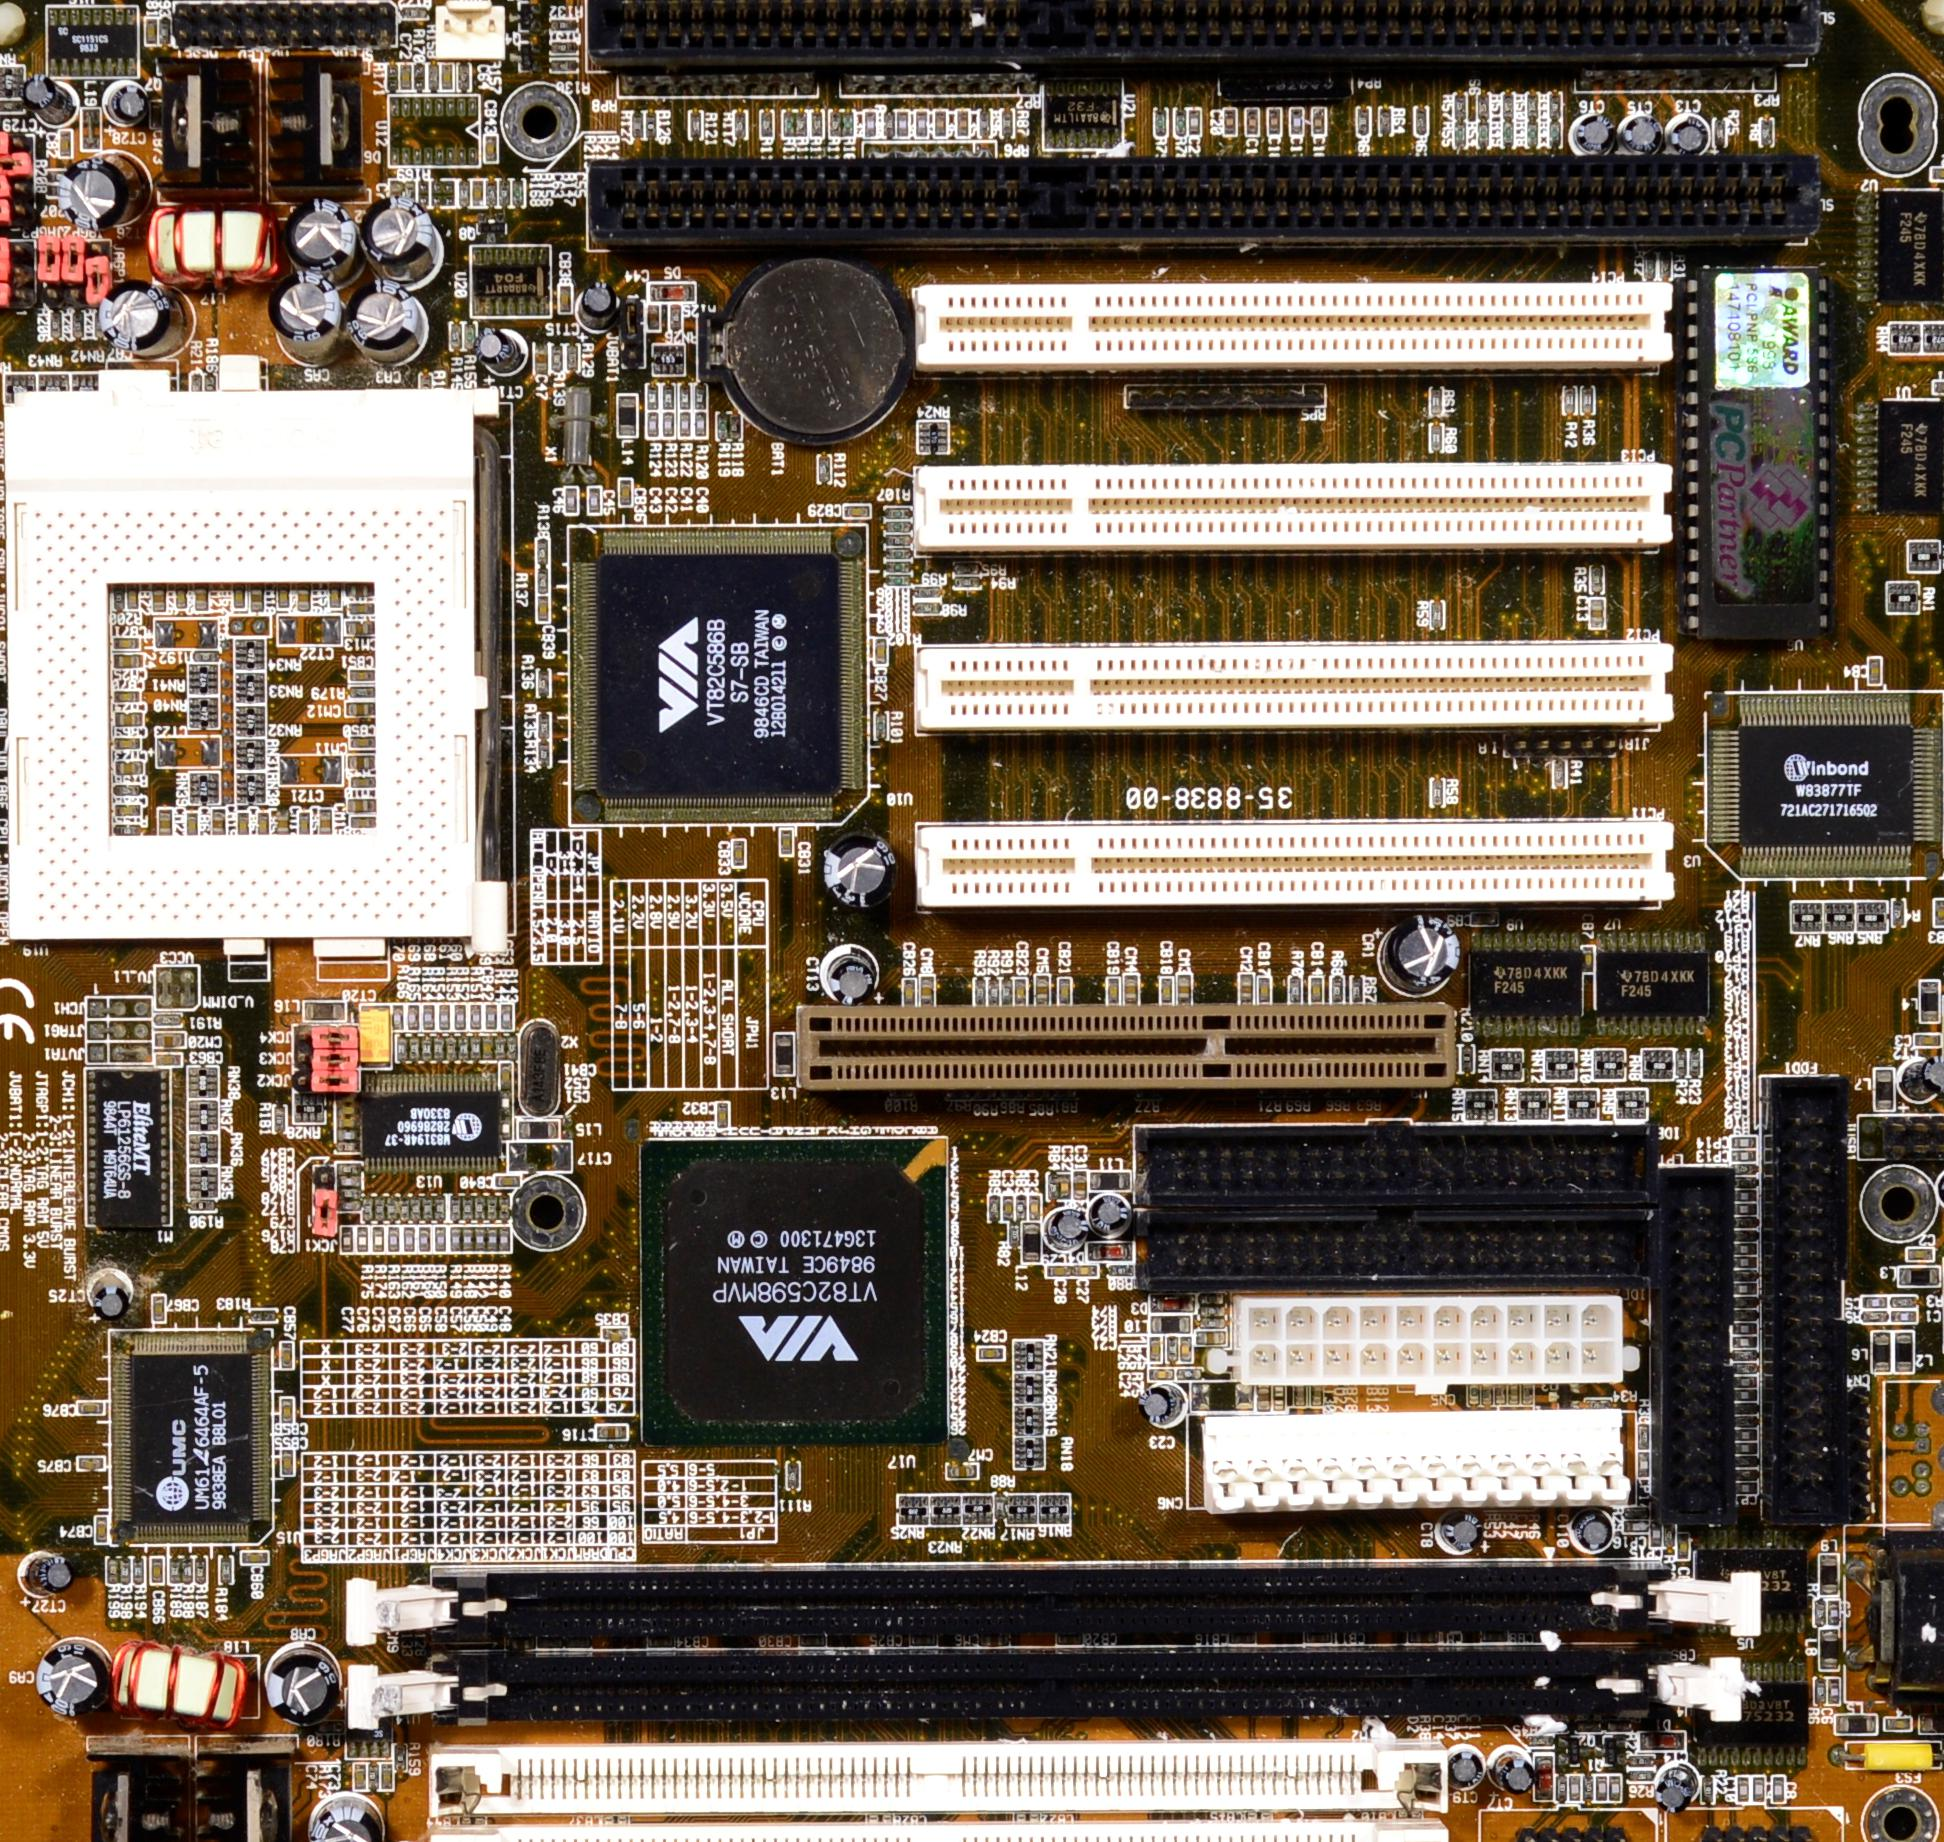Capacitor Jumper: (99, 268, 182, 348), (66, 151, 147, 227), (348, 274, 424, 353), (268, 1646, 343, 1728), (272, 267, 338, 353), (370, 196, 436, 272), (36, 1641, 102, 1714), (286, 203, 348, 270), (312, 1790, 388, 1840), (100, 73, 152, 133), (23, 1551, 73, 1601), (24, 80, 73, 132), (1175, 969, 1193, 1006), (1123, 975, 1141, 1011), (1257, 976, 1276, 1009), (595, 1425, 628, 1442), (947, 1463, 980, 1480), (921, 975, 937, 1011), (1904, 1245, 1935, 1262), (531, 341, 547, 376), (1238, 973, 1253, 1006), (151, 1293, 168, 1323), (1035, 975, 1051, 1006), (1222, 106, 1238, 137), (1589, 599, 1605, 630), (732, 836, 748, 867), (1290, 109, 1309, 133), (438, 64, 454, 93), (76, 1458, 106, 1473), (1267, 107, 1283, 137), (377, 1762, 393, 1792), (841, 504, 871, 519), (114, 712, 144, 727), (114, 760, 144, 776), (493, 1174, 526, 1188), (1826, 1598, 1840, 1631), (872, 634, 886, 667), (1310, 971, 1324, 1002), (1106, 976, 1120, 1008), (156, 1034, 187, 1047), (976, 1345, 1004, 1361), (151, 582, 164, 613), (781, 826, 795, 857), (400, 64, 414, 93), (280, 1342, 294, 1371), (1248, 107, 1262, 137), (93, 1515, 107, 1544), (59, 130, 73, 159), (145, 16, 159, 45), (344, 622, 374, 635), (114, 654, 144, 668), (76, 1401, 104, 1414), (280, 1399, 294, 1427), (241, 1551, 268, 1565), (353, 1762, 367, 1790), (1868, 656, 1882, 684), (1162, 976, 1174, 1008), (1890, 1312, 1921, 1324), (1196, 1333, 1227, 1345), (1148, 1369, 1179, 1381), (151, 1555, 163, 1586), (620, 478, 632, 509), (348, 602, 374, 616), (1002, 1193, 1014, 1222), (1028, 1195, 1040, 1224), (1149, 1336, 1162, 1366), (1773, 1774, 1785, 1804), (561, 284, 573, 313), (114, 803, 144, 815), (237, 810, 249, 840), (1915, 1035, 1942, 1047), (1073, 1172, 1085, 1200), (1047, 1264, 1072, 1278), (1859, 1295, 1887, 1307), (1736, 1776, 1748, 1804), (344, 705, 372, 717), (213, 808, 225, 836), (159, 810, 171, 838), (1059, 976, 1070, 1008), (158, 1054, 183, 1066), (1314, 111, 1326, 137), (485, 135, 497, 161), (348, 757, 374, 769), (346, 800, 372, 812), (298, 810, 310, 836), (1016, 976, 1027, 1006), (111, 639, 140, 649), (1073, 1266, 1098, 1278), (329, 585, 341, 609), (298, 587, 310, 611), (251, 587, 263, 611), (1059, 1174, 1070, 1201), (1182, 1336, 1193, 1364), (275, 589, 289, 609), (113, 691, 140, 701), (113, 737, 140, 748), (320, 808, 331, 836), (391, 180, 400, 213), (601, 1328, 627, 1338), (1191, 109, 1200, 140), (128, 585, 138, 611), (277, 810, 287, 836), (904, 978, 912, 1008), (350, 737, 374, 748), (592, 490, 602, 512), (177, 585, 185, 611), (234, 585, 242, 611), (350, 819, 376, 828), (260, 810, 268, 836), (197, 585, 206, 609), (350, 672, 374, 680), (189, 814, 197, 838), (351, 779, 374, 788), (1935, 902, 1942, 928), (1932, 381, 1942, 396)
Connector: (433, 1645, 1679, 1724), (589, 159, 1812, 239), (436, 1568, 1667, 1645), (582, 0, 1814, 62), (433, 1742, 1451, 1814), (905, 279, 1669, 369), (916, 466, 1669, 549), (909, 826, 1672, 898), (916, 654, 1664, 725), (1189, 1406, 1634, 1511), (1146, 1208, 1653, 1298), (1755, 1075, 1854, 1529), (801, 1011, 1456, 1079), (1136, 1125, 1660, 1205), (1655, 1165, 1747, 1522), (1229, 1305, 1624, 1381), (428, 1821, 1447, 1840), (1851, 1541, 1942, 1705), (175, 0, 400, 47)
IC: (639, 1132, 957, 1439), (570, 523, 866, 826), (1674, 268, 1830, 641), (1702, 687, 1942, 885), (109, 1328, 265, 1541), (85, 1072, 178, 1241), (360, 1073, 497, 1170), (1470, 930, 1584, 1039), (1691, 1657, 1806, 1762), (1598, 933, 1707, 1037), (1695, 1530, 1804, 1634), (1852, 400, 1942, 514), (1856, 189, 1942, 303), (45, 5, 137, 78), (471, 244, 554, 320), (1042, 80, 1125, 151), (1812, 1676, 1826, 1707)
Resistor Jumper: (1579, 383, 1598, 421), (950, 559, 987, 576), (1329, 971, 1345, 1009), (819, 455, 834, 490), (911, 585, 949, 599), (660, 383, 677, 412), (1288, 975, 1304, 1006), (272, 1105, 287, 1136), (1163, 1335, 1179, 1366), (1430, 384, 1445, 415), (988, 975, 1002, 1009), (1002, 978, 1016, 1013), (466, 1006, 483, 1034), (758, 111, 776, 138), (402, 182, 415, 216), (566, 341, 580, 376), (911, 602, 945, 616), (550, 341, 563, 379), (417, 1226, 433, 1255), (810, 111, 826, 140), (436, 178, 452, 208), (1430, 597, 1445, 627), (550, 40, 580, 55), (1104, 1262, 1137, 1276), (1174, 107, 1188, 140), (781, 107, 795, 140), (1555, 1773, 1568, 1806), (512, 177, 526, 209), (204, 372, 218, 405), (499, 1004, 516, 1030), (152, 1013, 189, 1025), (549, 59, 580, 73), (483, 1004, 499, 1032), (414, 62, 428, 93), (1002, 111, 1018, 138), (192, 1560, 208, 1588), (1812, 1598, 1826, 1629), (727, 415, 743, 443), (1432, 424, 1447, 452), (1553, 760, 1567, 791), (691, 111, 703, 145), (459, 64, 473, 93), (1355, 107, 1369, 137), (220, 1556, 234, 1586), (1828, 1679, 1842, 1709), (1627, 1755, 1657, 1769), (1608, 1774, 1622, 1804), (189, 370, 203, 400), (694, 383, 708, 412), (883, 556, 912, 570), (113, 822, 142, 836), (691, 412, 706, 438), (647, 415, 663, 441), (661, 415, 677, 441), (1380, 106, 1392, 138), (736, 109, 748, 142), (1563, 384, 1575, 417), (883, 521, 916, 533), (159, 14, 171, 47), (355, 1226, 369, 1253), (1452, 90, 1466, 118), (827, 111, 841, 138), (895, 111, 909, 138), (931, 111, 945, 138), (914, 113, 928, 140), (106, 1558, 119, 1586), (1761, 116, 1774, 144), (1594, 1774, 1608, 1802), (400, 5, 428, 19), (883, 506, 911, 519), (550, 17, 578, 31), (885, 571, 912, 585), (1589, 566, 1603, 594), (452, 1006, 467, 1030), (1047, 1172, 1059, 1203), (1551, 93, 1563, 125), (1155, 109, 1167, 140), (634, 109, 646, 140), (73, 308, 85, 339), (646, 384, 661, 409), (717, 412, 729, 443), (883, 537, 914, 549), (874, 712, 886, 743), (436, 1006, 450, 1032), (386, 61, 396, 95), (339, 1226, 353, 1252), (386, 1226, 400, 1252), (499, 1226, 512, 1252), (1627, 1769, 1653, 1783), (679, 412, 692, 438), (113, 783, 138, 796), (1430, 779, 1444, 805), (403, 1222, 415, 1252), (485, 178, 497, 208), (954, 578, 983, 590), (788, 1461, 798, 1494), (1416, 104, 1426, 137), (1714, 118, 1724, 151), (1350, 975, 1362, 1002), (405, 1006, 419, 1030), (422, 1195, 435, 1222), (1007, 1220, 1020, 1248), (1890, 1297, 1918, 1309), (980, 111, 992, 138), (796, 111, 808, 138), (133, 1556, 145, 1584), (1752, 1776, 1766, 1800), (1702, 1776, 1714, 1804), (459, 180, 471, 208), (466, 324, 478, 351), (372, 1224, 383, 1255), (1527, 93, 1537, 125), (841, 109, 852, 140), (646, 111, 656, 142), (391, 1004, 403, 1030), (398, 1196, 410, 1222), (433, 1224, 445, 1250), (1198, 1316, 1224, 1328), (500, 180, 512, 206), (417, 182, 429, 208), (450, 324, 462, 350), (348, 686, 374, 698), (111, 589, 125, 611), (988, 1193, 999, 1222), (119, 1556, 130, 1586), (447, 1039, 464, 1056), (422, 1006, 435, 1030), (499, 1198, 511, 1222), (474, 1227, 486, 1252), (474, 1196, 485, 1224), (488, 1224, 499, 1252), (1477, 92, 1487, 119), (862, 111, 872, 138), (170, 1556, 180, 1584), (1503, 119, 1513, 147), (395, 1743, 405, 1771), (50, 312, 61, 339), (975, 976, 983, 1009), (421, 1037, 433, 1059), (395, 1039, 407, 1061), (460, 1227, 473, 1250), (1454, 123, 1466, 145), (374, 1196, 384, 1222), (410, 1196, 421, 1222), (957, 111, 968, 137), (1570, 1774, 1580, 1800), (677, 384, 687, 410), (480, 1039, 493, 1058), (435, 1193, 443, 1222), (1861, 1312, 1890, 1321), (505, 1034, 516, 1058), (450, 1196, 460, 1220), (384, 1198, 395, 1222), (1582, 1776, 1593, 1800), (883, 549, 919, 556), (1016, 1195, 1025, 1222), (1200, 1307, 1227, 1316), (1504, 92, 1513, 119), (462, 1196, 473, 1219), (429, 62, 436, 95), (189, 1203, 215, 1212), (452, 1226, 460, 1252), (493, 1037, 504, 1058), (435, 1035, 443, 1059), (486, 1198, 495, 1222), (182, 1558, 190, 1582), (1478, 121, 1487, 145), (410, 1039, 419, 1061), (364, 1196, 372, 1219), (1527, 125, 1535, 147), (1551, 125, 1560, 147), (369, 1762, 376, 1790), (466, 1035, 473, 1061), (473, 1037, 480, 1061)
